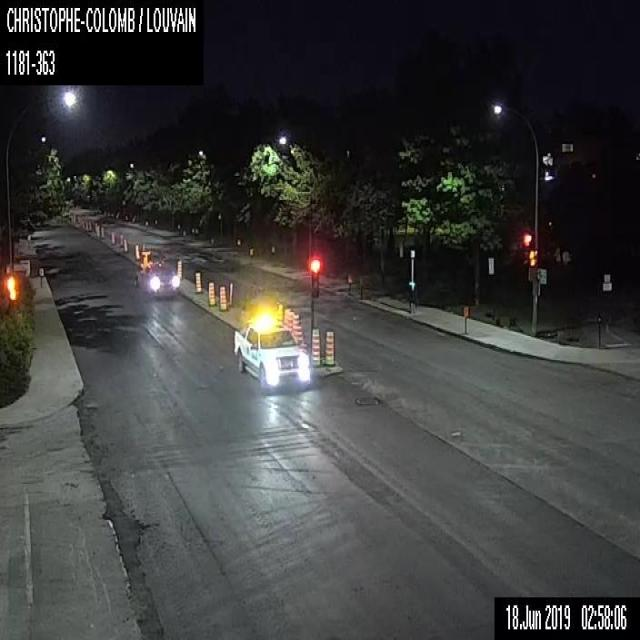construction: (309, 326, 320, 366), (323, 327, 332, 364), (139, 249, 153, 272), (293, 324, 304, 347), (207, 280, 215, 307), (218, 284, 225, 311), (292, 310, 298, 340), (175, 259, 182, 280), (194, 271, 201, 292), (286, 309, 293, 330), (134, 243, 140, 261), (109, 231, 115, 244), (119, 232, 123, 246), (123, 238, 127, 252), (100, 225, 104, 238)
vehicle: (233, 309, 309, 388), (139, 262, 177, 297)
